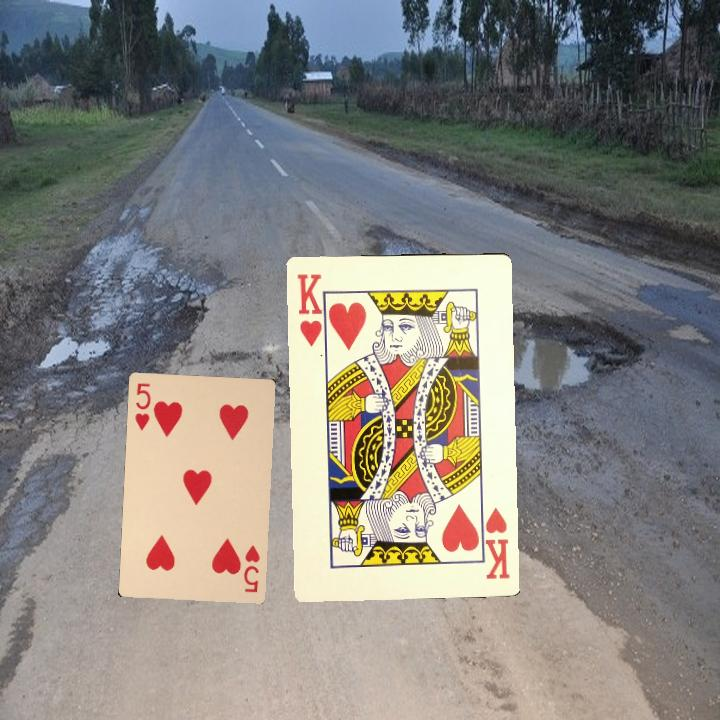5h: (240, 541, 262, 595), (131, 379, 153, 432)
Kh: (475, 503, 512, 582), (293, 269, 329, 349)
